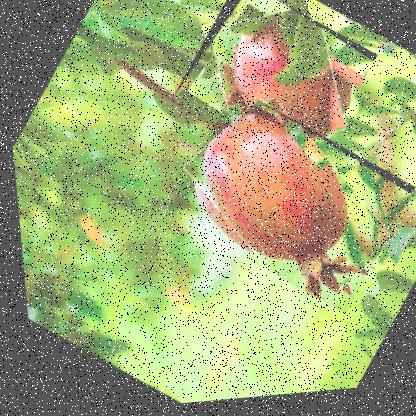pomegranate: (151, 78, 415, 331), (158, 0, 384, 193)
